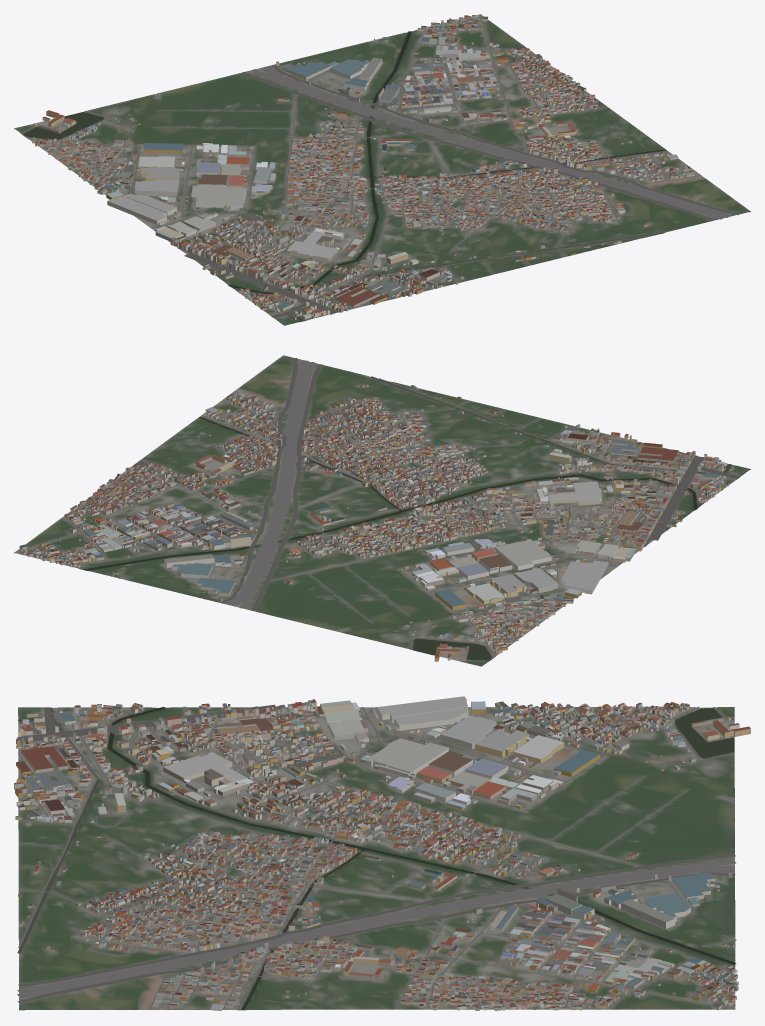
3 renders of one model, top to bottom at view 1: azimuth 30°, elevation 25°; view 2: azimuth 150°, elevation 25°; view 3: azimuth 270°, elevation 25°, orthographic. The views are drawn at different scales.
Visible parts, largest first — view 1: ground, buildings, roads, water; view 2: ground, buildings, roads, water; view 3: ground, buildings, roads, water.
Boxes of the visible parts, x1,y1,x2,y2 form: ground: [14, 14, 750, 325]; buildings: [32, 15, 694, 319]; roads: [22, 14, 739, 318]; water: [24, 31, 666, 321]; ground: [14, 355, 750, 666]; buildings: [19, 384, 733, 661]; roads: [14, 358, 740, 660]; water: [84, 376, 738, 660]; ground: [18, 706, 735, 1010]; buildings: [14, 696, 750, 1010]; roads: [17, 704, 736, 1009]; water: [17, 707, 736, 1009].
Bounding box in the file's own units: 1433 × 29 × 1442.
